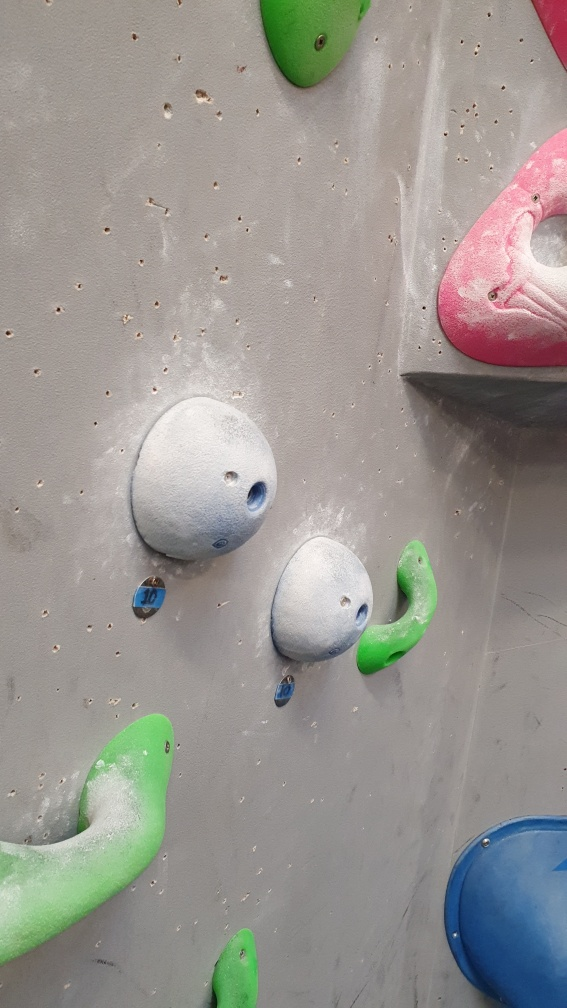Hand Start: (128, 572, 167, 619), (276, 671, 296, 711)
Pocket: (434, 125, 567, 373)
Sloper: (128, 391, 279, 562), (266, 531, 376, 669)
